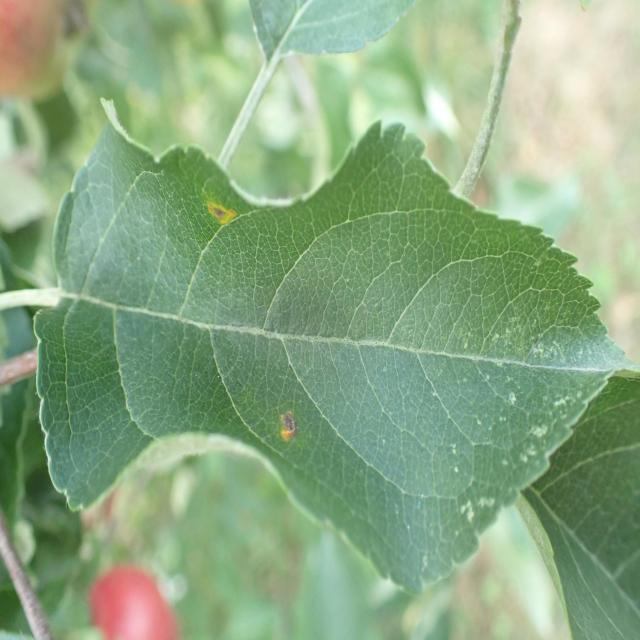Rust: (264, 393, 308, 464), (196, 192, 246, 240)
